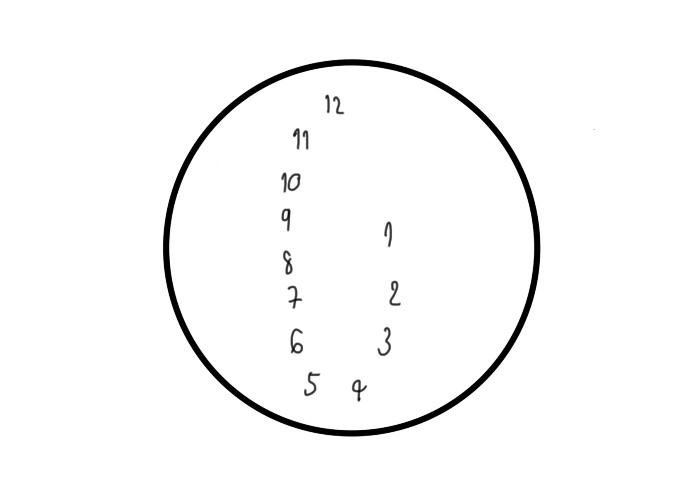eight: (281, 248, 295, 276)
eleven: (291, 126, 311, 150)
five: (304, 369, 321, 398)
four: (350, 378, 368, 403)
nine: (278, 205, 294, 233)
one: (382, 219, 394, 249)
seven: (287, 283, 301, 311)
six: (289, 326, 305, 355)
ten: (280, 168, 302, 194)
three: (377, 325, 393, 358)
twelve: (322, 90, 344, 116)
two: (386, 276, 403, 309)
